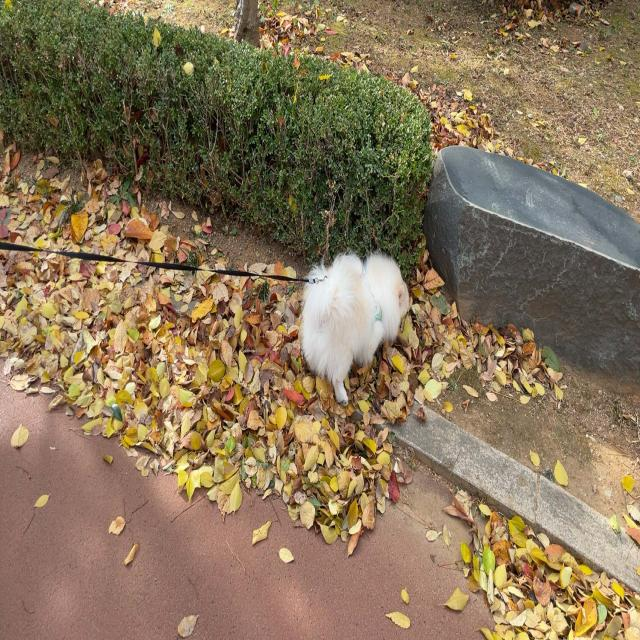Dog: (300, 254, 410, 408)
